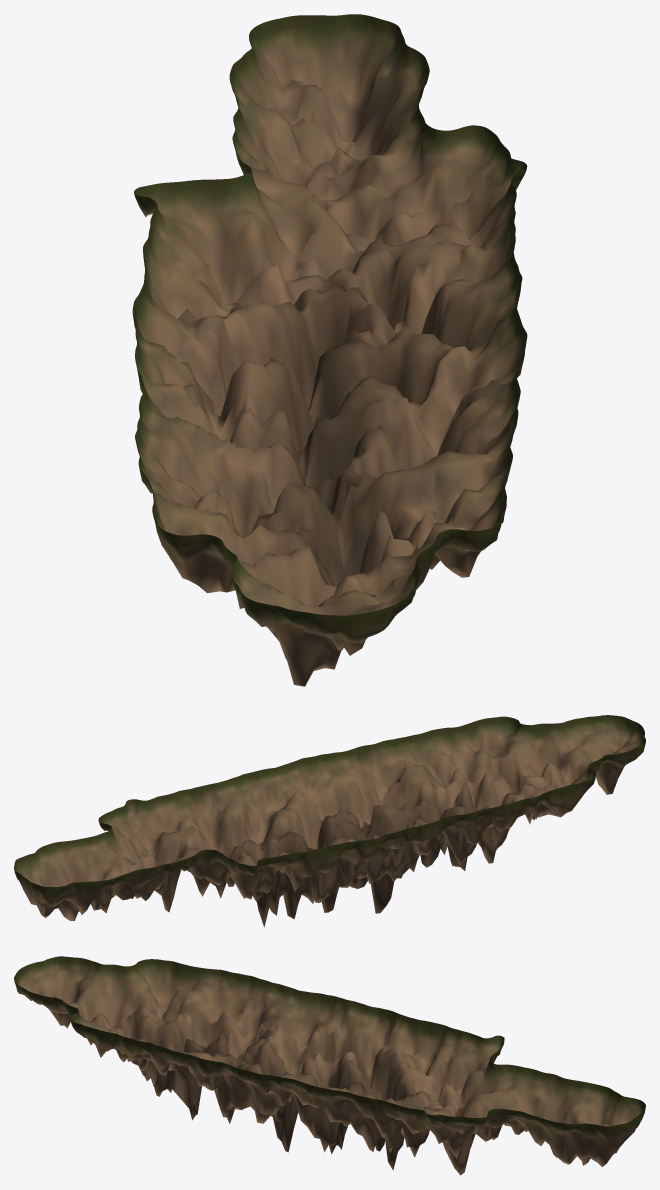
File: SM_H13_IslandRock.fbx
3 views of the same model, one above another, from view 1: azimuth 30°, elevation 25°; view 2: azimuth 150°, elevation 25°; view 3: azimuth 270°, elevation 25° (orthographic). The views are drawn at different scales.
Visible parts, largest first — view 1: SM_H13_IslandRock; view 2: SM_H13_IslandRock; view 3: SM_H13_IslandRock.
Part boxes in pixels (x1,y1,x2,y2): SM_H13_IslandRock: (132, 14, 527, 686); SM_H13_IslandRock: (14, 715, 645, 927); SM_H13_IslandRock: (14, 956, 645, 1175).
Size of the model in its own units: 315 by 106 by 494.
